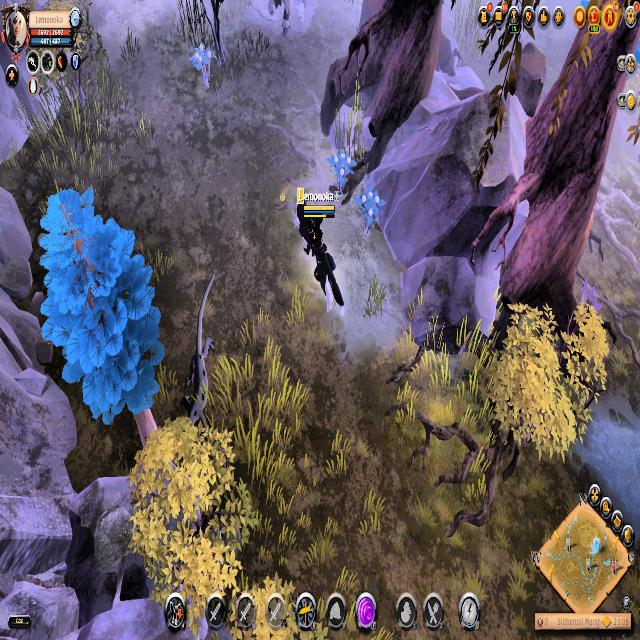fiber tier 4: (352, 188, 388, 238), (190, 39, 216, 91), (328, 145, 356, 191)
wood tier 4: (38, 188, 168, 428)
